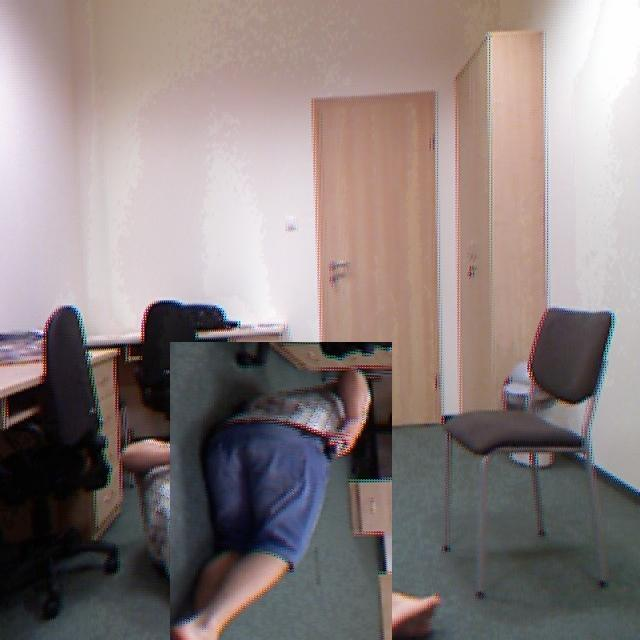Fall: (186, 359, 394, 640)
